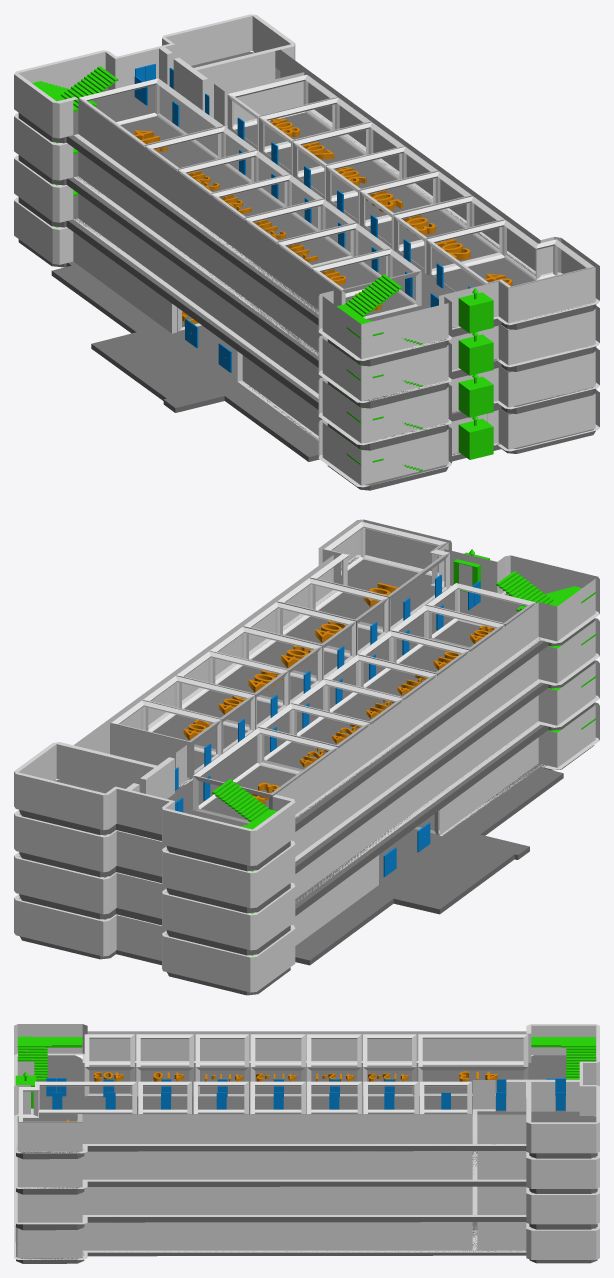
File: IT4_fullModel.glb
3 renders of one model, top to bottom at view 1: azimuth 30°, elevation 25°; view 2: azimuth 150°, elevation 25°; view 3: azimuth 270°, elevation 25°, orthographic. The views are drawn at different scales.
Parts seen in each view (by area): view 1: Wall.003, Floor.003, B101.002, Wall.002, Wall.001, Wall, Floor, Floor.001, Floor.002, Elevator1.002, Elevator1.001, Elevator1 (+3 smaller); view 2: Wall.003, Floor.003, B101.002, Wall.001, Wall.002, Wall, Floor, Floor.002, Floor.001, Stair1.013, Stair1.015; view 3: Wall.003, Floor.003, Wall.001, Wall, Wall.002, B101.002, Floor.001, Floor.002, Floor, Stair1.014, Stair1.012, StairFlatFloor2.007 (+1 smaller).
Part boxes in pixels (x1,y1,x2,y2): Wall.003: [14, 14, 599, 360]; Floor.003: [18, 51, 596, 366]; B101.002: [79, 75, 594, 325]; Wall.002: [14, 155, 599, 445]; Wall.001: [14, 113, 599, 402]; Wall: [14, 197, 599, 487]; Floor: [18, 239, 595, 490]; Floor.001: [18, 153, 596, 408]; Floor.002: [18, 195, 596, 450]; Elevator1.002: [458, 376, 493, 417]; Elevator1.001: [458, 334, 493, 375]; Elevator1: [458, 418, 493, 459]; Wall.003: [14, 519, 599, 865]; Floor.003: [19, 557, 594, 871]; B101.002: [111, 521, 535, 823]; Wall.001: [14, 618, 599, 908]; Wall.002: [14, 660, 599, 950]; Wall: [14, 702, 599, 992]; Floor: [20, 745, 594, 995]; Floor.002: [19, 703, 594, 955]; Floor.001: [19, 661, 594, 913]; Stair1.013: [212, 779, 268, 821]; Stair1.015: [496, 571, 553, 606]; Wall.003: [14, 1024, 599, 1153]; Floor.003: [16, 1055, 597, 1159]; Wall.001: [14, 1116, 599, 1188]; Wall: [14, 1222, 599, 1259]; Wall.002: [14, 1186, 599, 1224]; B101.002: [18, 1034, 528, 1153]; Floor.001: [16, 1151, 597, 1194]; Floor.002: [16, 1192, 597, 1230]; Floor: [15, 1222, 597, 1263]; Stair1.014: [18, 1047, 47, 1080]; Stair1.012: [566, 1047, 595, 1079]; StairFlatFloor2.007: [17, 1036, 82, 1047].
Size of the model in its own units: 1.25 by 0.6946 by 2.52.
